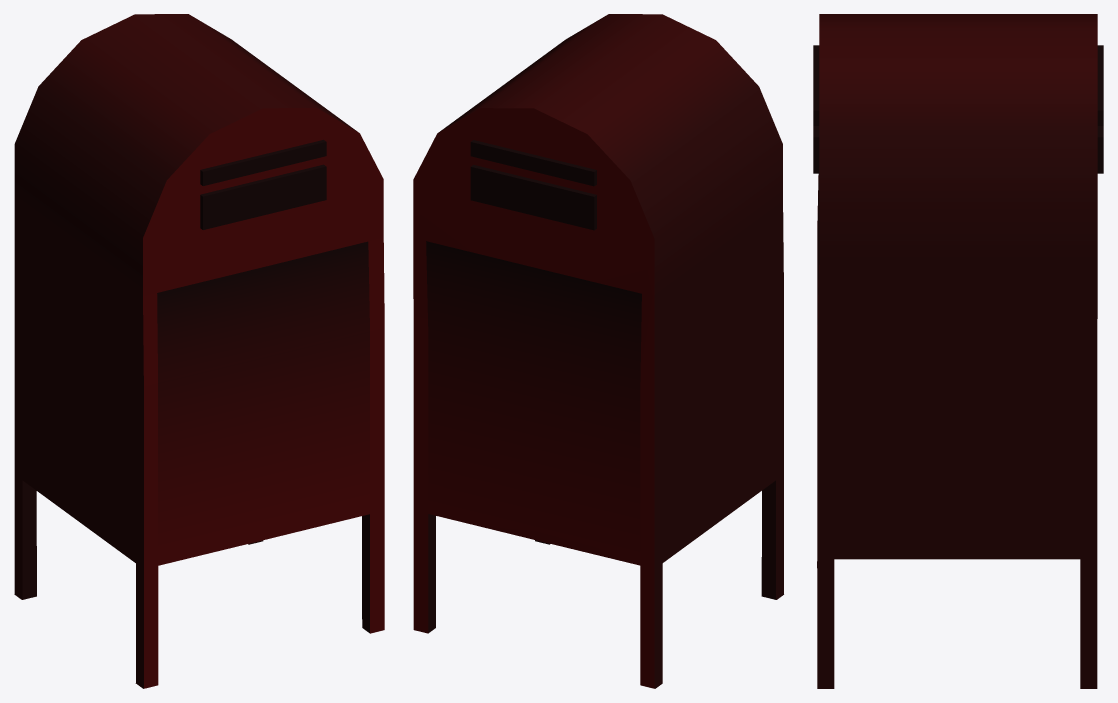
File: NewspaperStand003.glb
3 views of the same model, side by side, from view 1: azimuth 30°, elevation 25°; view 2: azimuth 150°, elevation 25°; view 3: azimuth 270°, elevation 25° (orthographic). The views are drawn at different scales.
Parts seen in each view (by area): view 1: NewspaperStand003; view 2: NewspaperStand003; view 3: NewspaperStand003.
Boxes of the visible parts, box(x1,y1,x2,y2) form: NewspaperStand003: box(14, 14, 384, 688); NewspaperStand003: box(413, 14, 783, 688); NewspaperStand003: box(813, 14, 1103, 688).
Bounding box in the file's own units: 2.45 × 5.34 × 2.35.
